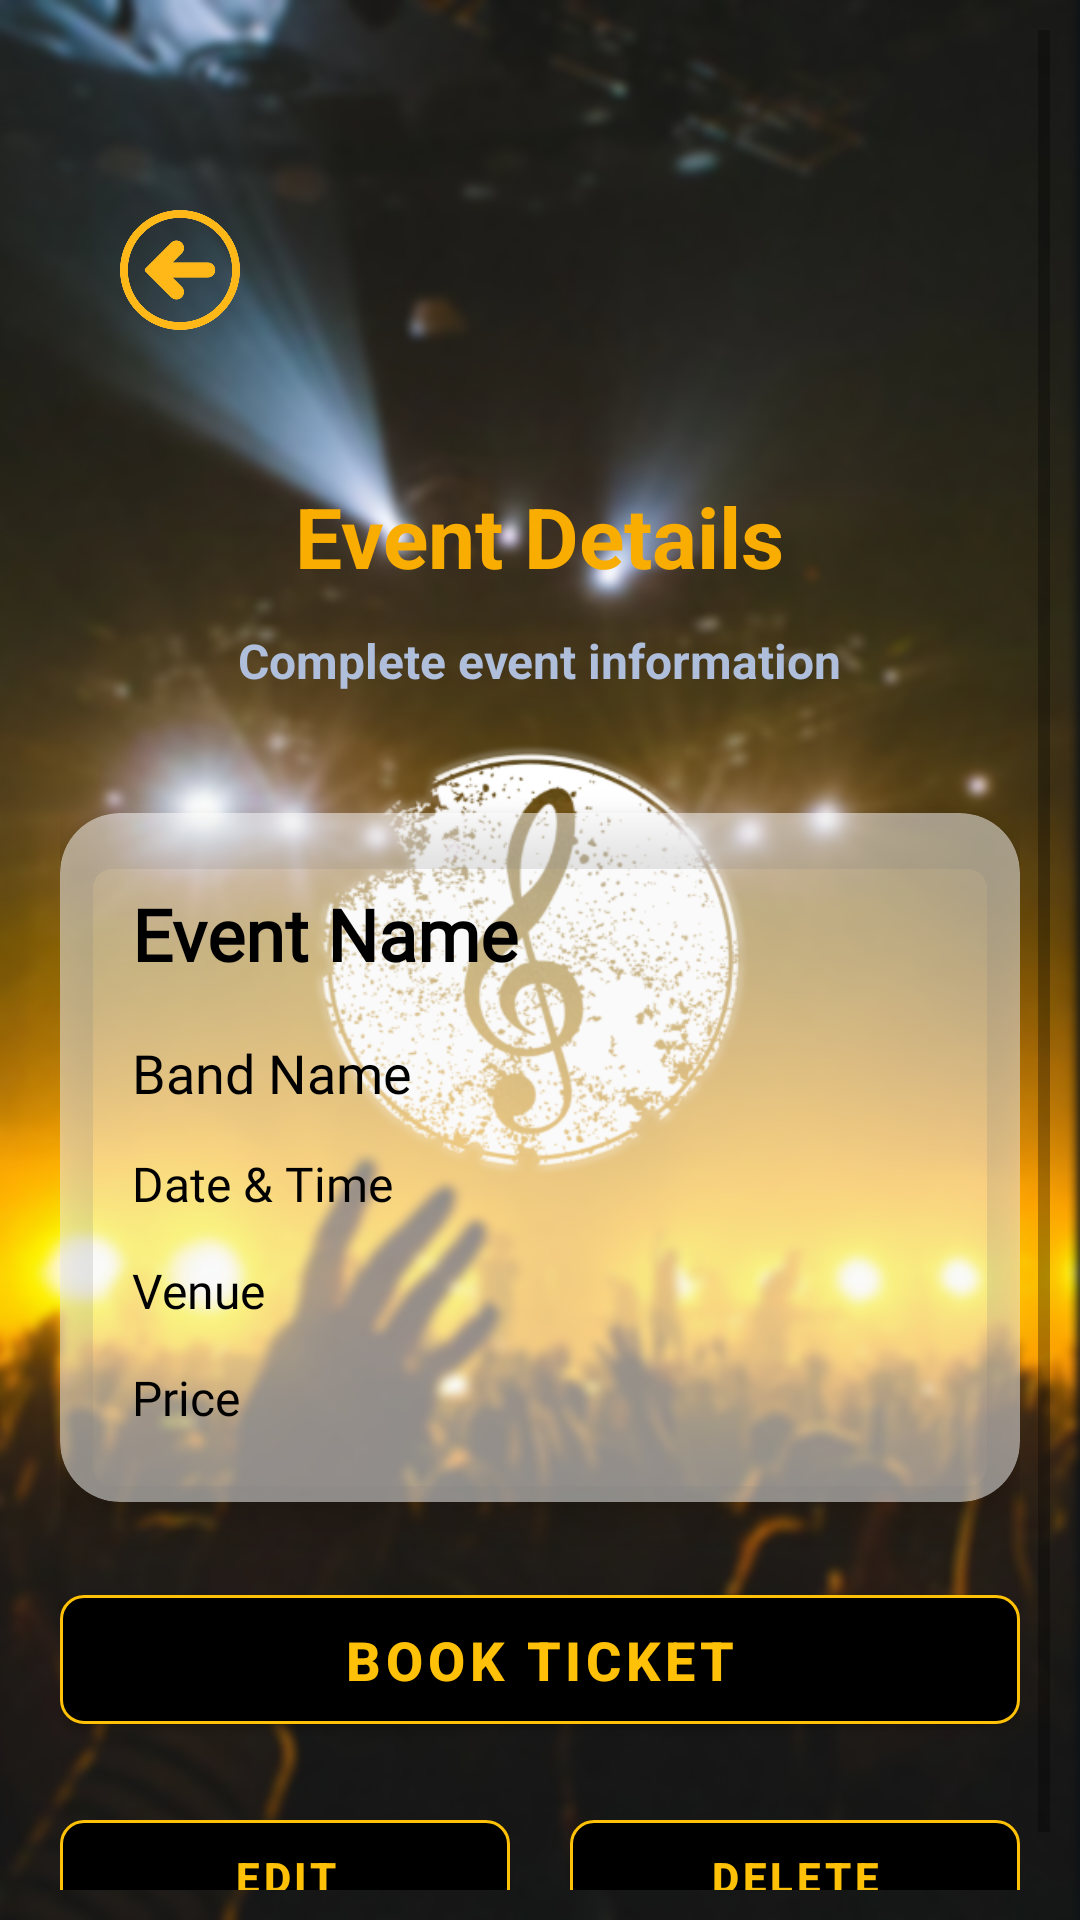

Screen size 1080*1920. Icon name, then its center in pixels as point (x, y):
Back: point (180, 270)
